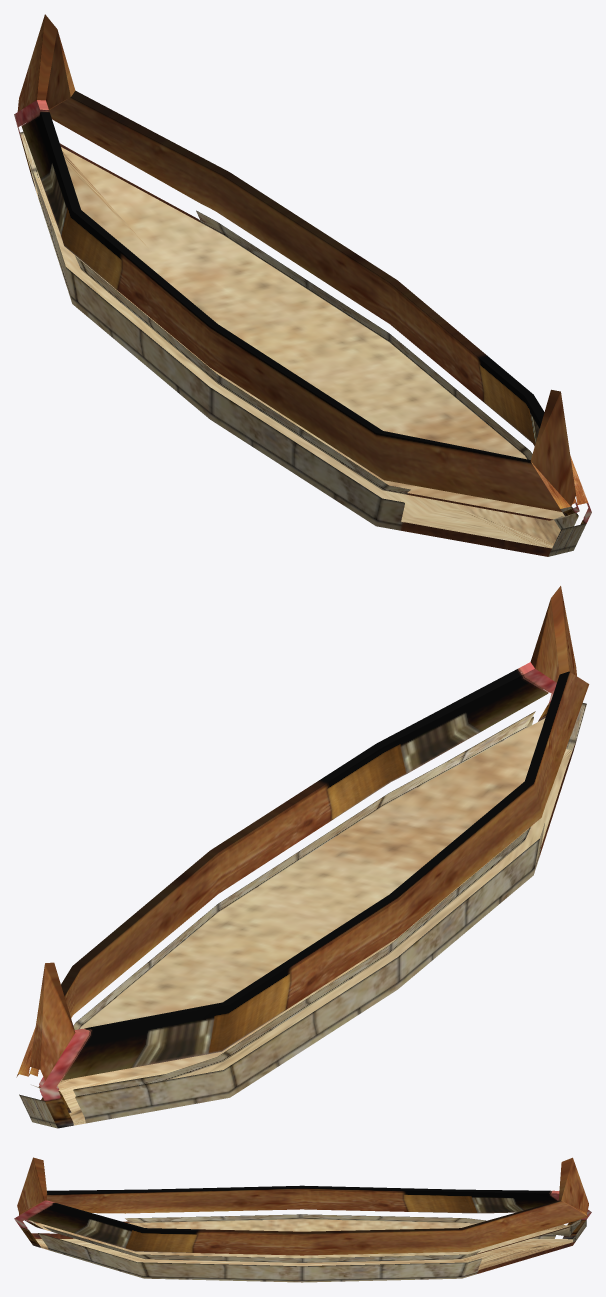
Rendered from canoe_medium.dae.
The picture shows the model from 3 angles, top to bottom: view 1: azimuth 30°, elevation 25°; view 2: azimuth 150°, elevation 25°; view 3: azimuth 270°, elevation 25°; orthographic projection. The views are drawn at different scales.
Visible parts, largest first — view 1: a-canoe_medium; view 2: a-canoe_medium; view 3: a-canoe_medium.
Part boxes in pixels (left/top/right/bottom): a-canoe_medium: left=14, top=14, right=591, bottom=556; a-canoe_medium: left=16, top=586, right=589, bottom=1128; a-canoe_medium: left=14, top=1157, right=591, bottom=1282.
Size of the model in its own units: 2.33 by 11.87 by 2.29.
